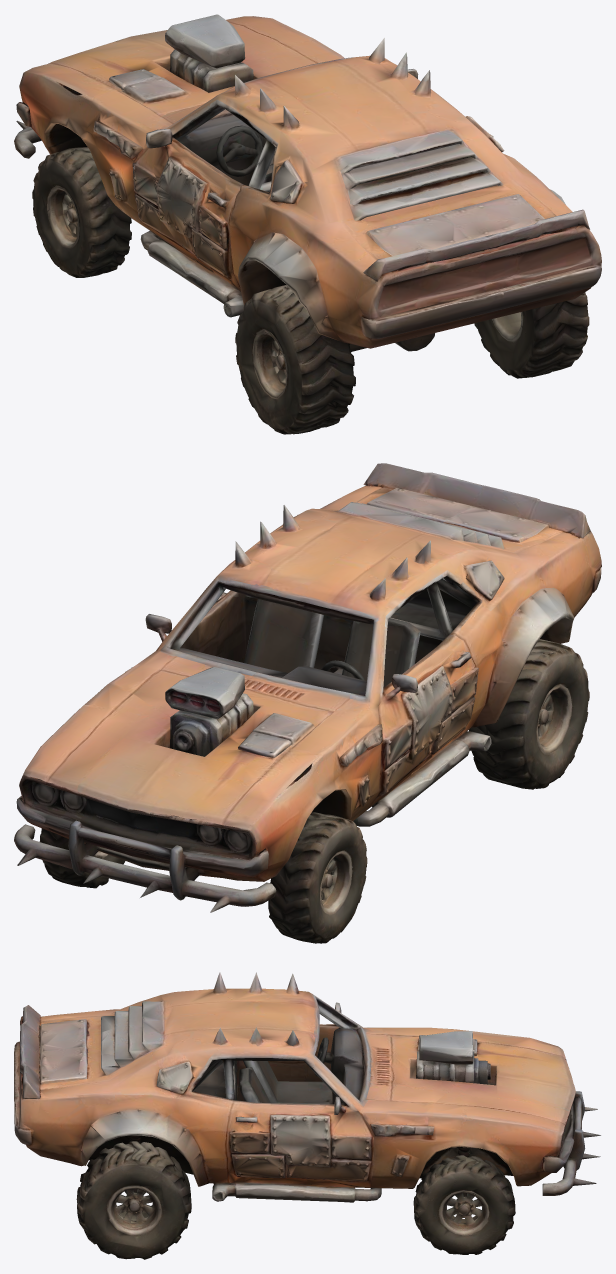
The model's file is apocalypse.glb.
3 views of the same model, one above another, from view 1: azimuth 30°, elevation 25°; view 2: azimuth 150°, elevation 25°; view 3: azimuth 270°, elevation 25° (orthographic). The views are drawn at different scales.
Parts seen in each view (by area): view 1: Body, WheelRL_geometry, WheelFL_geometry, WheelRR_geometry; view 2: Body, WheelRL_geometry, WheelFL_geometry, WheelFR_geometry; view 3: Body, WheelRR_geometry, WheelFR_geometry.
Part boxes in pixels (x1,y1,x2,y2): Body: [14, 14, 601, 351]; WheelRL_geometry: [235, 285, 355, 434]; WheelFL_geometry: [32, 147, 131, 277]; WheelRR_geometry: [474, 292, 589, 378]; Body: [14, 463, 601, 912]; WheelRL_geometry: [469, 639, 589, 789]; WheelFL_geometry: [268, 812, 367, 943]; WheelFR_geometry: [39, 828, 125, 888]; Body: [14, 972, 600, 1202]; WheelRR_geometry: [76, 1141, 191, 1259]; WheelFR_geometry: [413, 1147, 515, 1254].
Size of the model in its own units: 1.87 by 1.65 by 4.2.
Materials: 8 (8 with a texture image).
